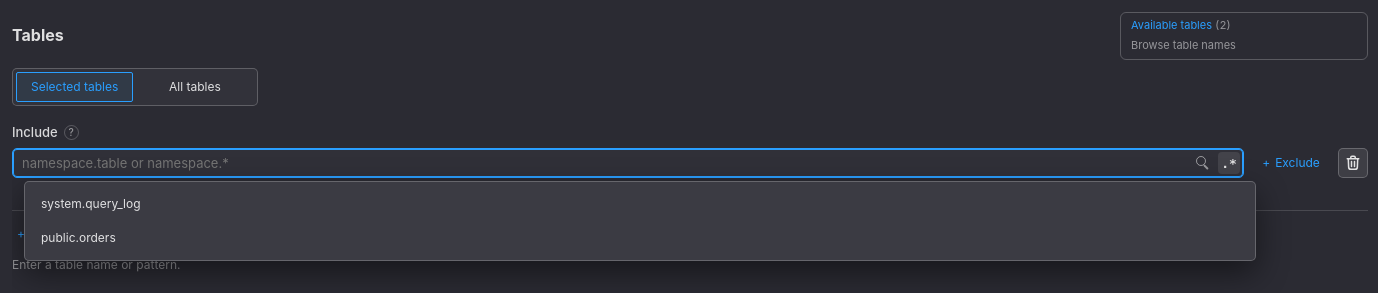
opens source Include subsequence suggestions on focus without waiting for selection preview
The image size is (1378, 293).
Expected: the number of options is 2, [31, 188, 1239, 220]; [31, 222, 1239, 254]
Type "sql" into the dropdown named "Include rule 1". click: (628, 163)
box: [12, 148, 1244, 178]
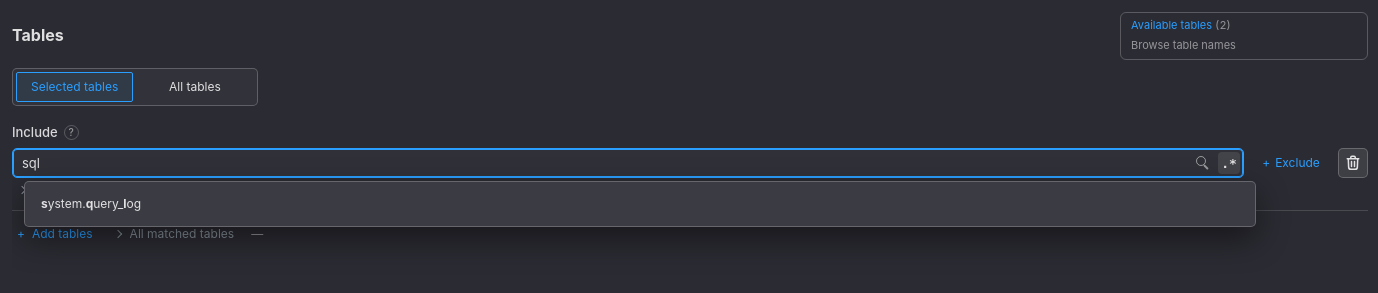
Expected: the option "public.orders" is gone
Click the option "system.query_log". click: (44, 204)
box: [31, 188, 1239, 220]
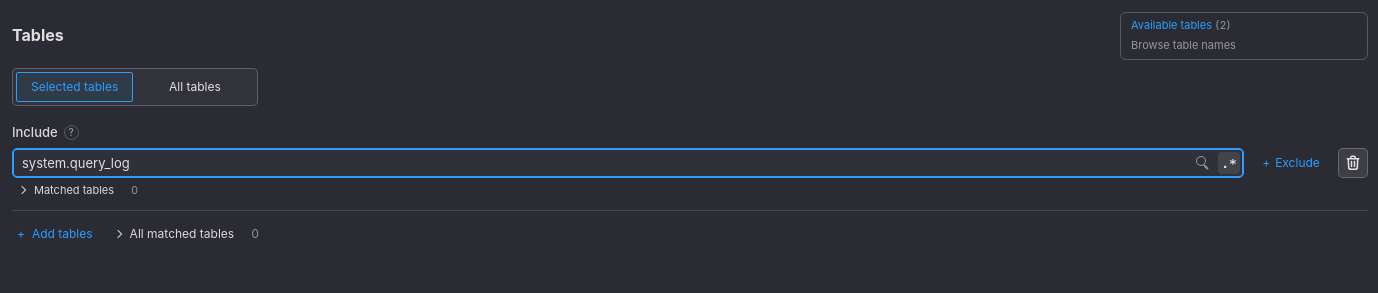
Expected: the dropdown named "Include rule 1" holds "system.query_log", [12, 148, 1244, 178]
